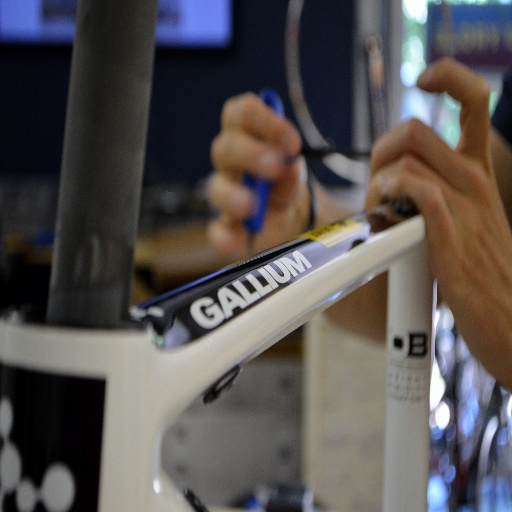hand: (363, 72, 508, 369), (204, 91, 310, 267)
